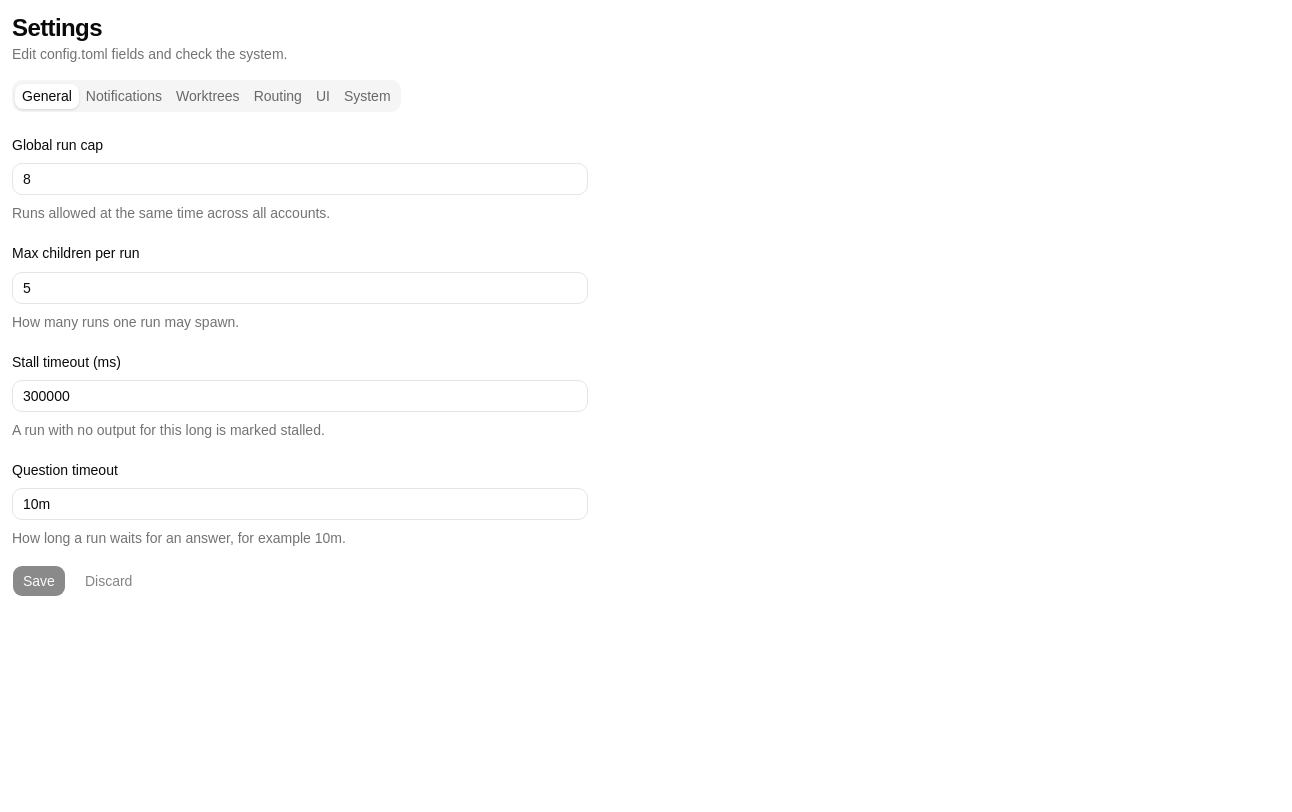
Test: SettingsPage config › saves only the changed field and shows the restart banner
Check: the button "Save" is disabled, box 12,565 -> 66,597
Replace the text in the number field labelled "Global run cap" with "4". click: (300, 179)
box: 12,163 -> 588,195
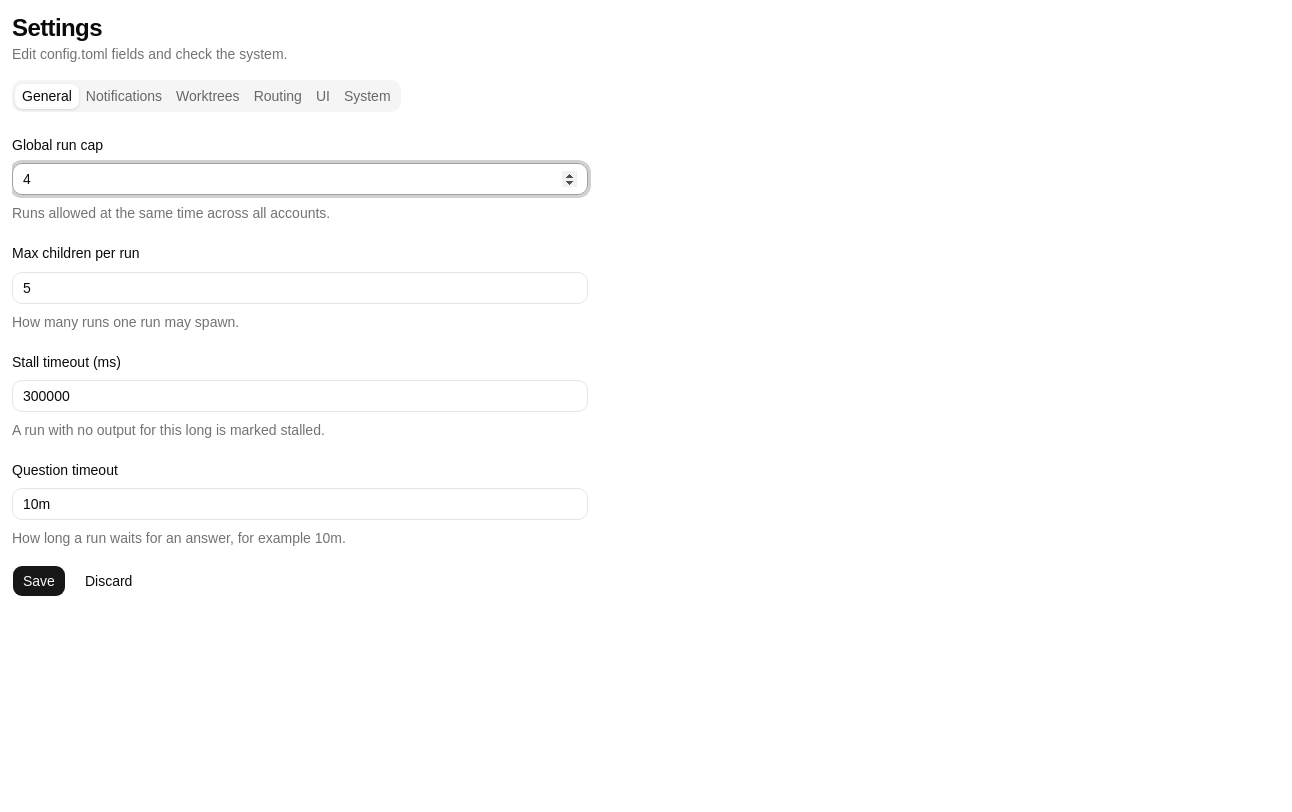
Click the button "Save". click: (39, 581)
box: 12,565 -> 66,597
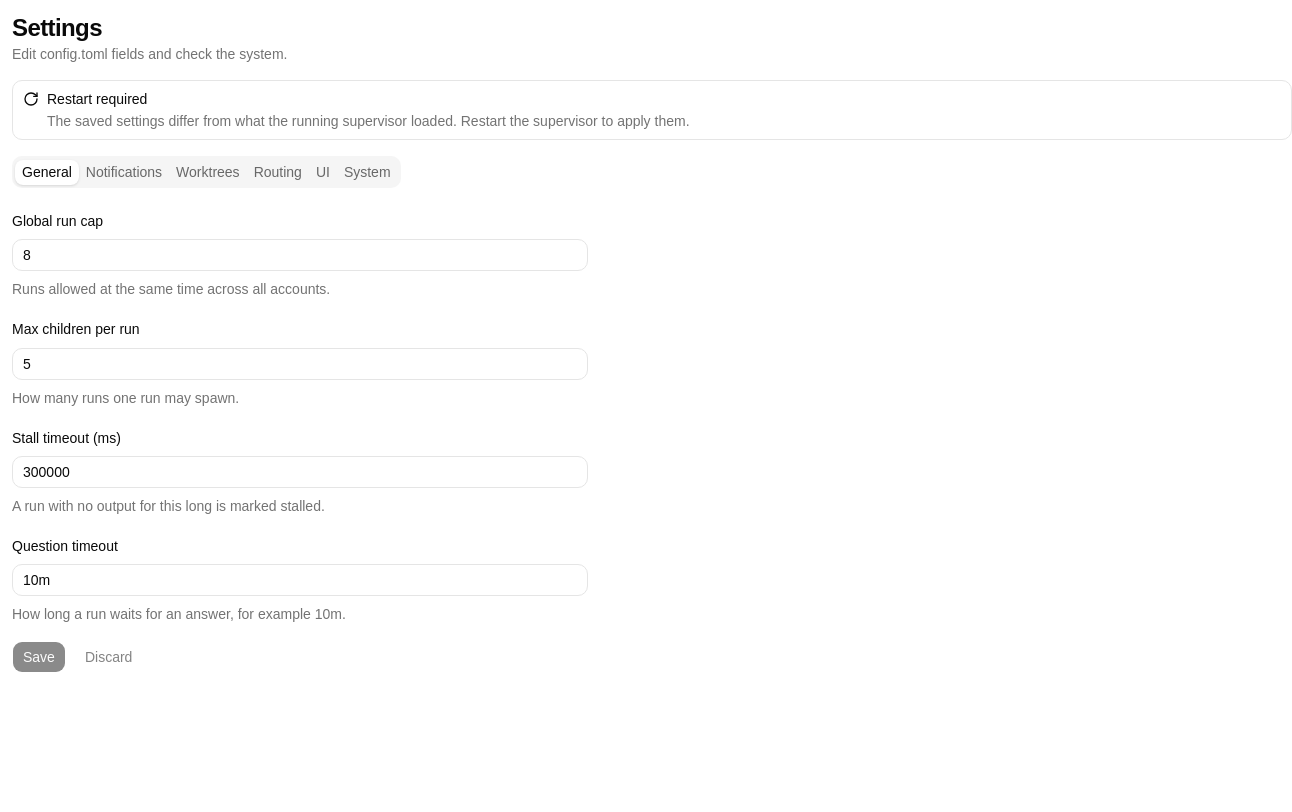
Check: the text "Restart required" is shown, box 47,91 -> 147,107
